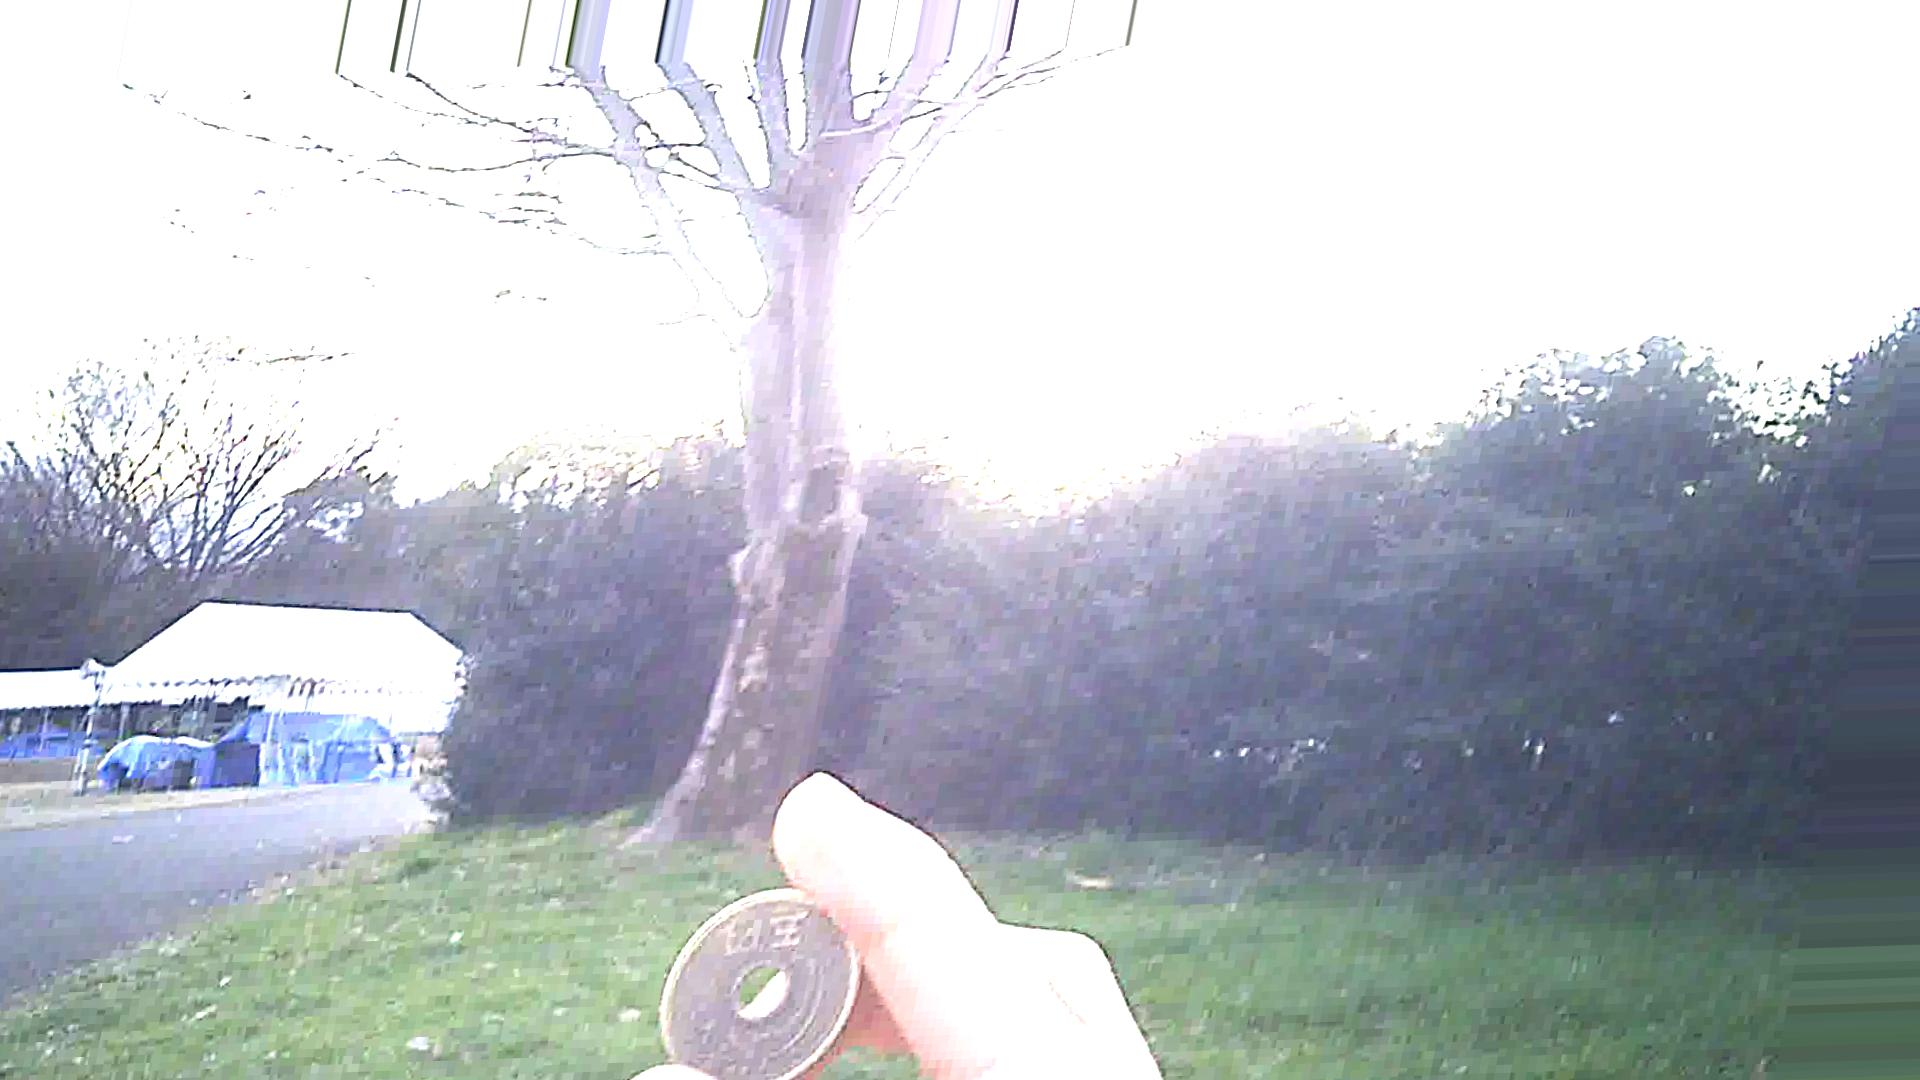5 Yen: (642, 887, 866, 1079)
